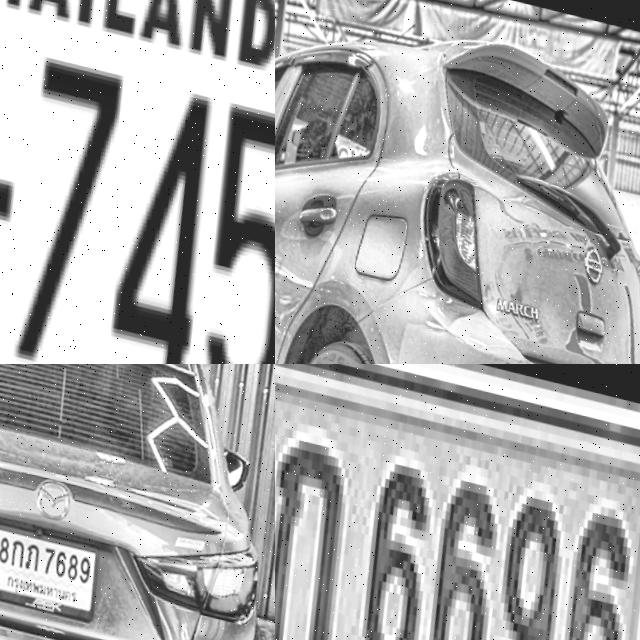license-plate: (275, 364, 640, 640), (0, 0, 275, 364), (0, 500, 103, 629)
